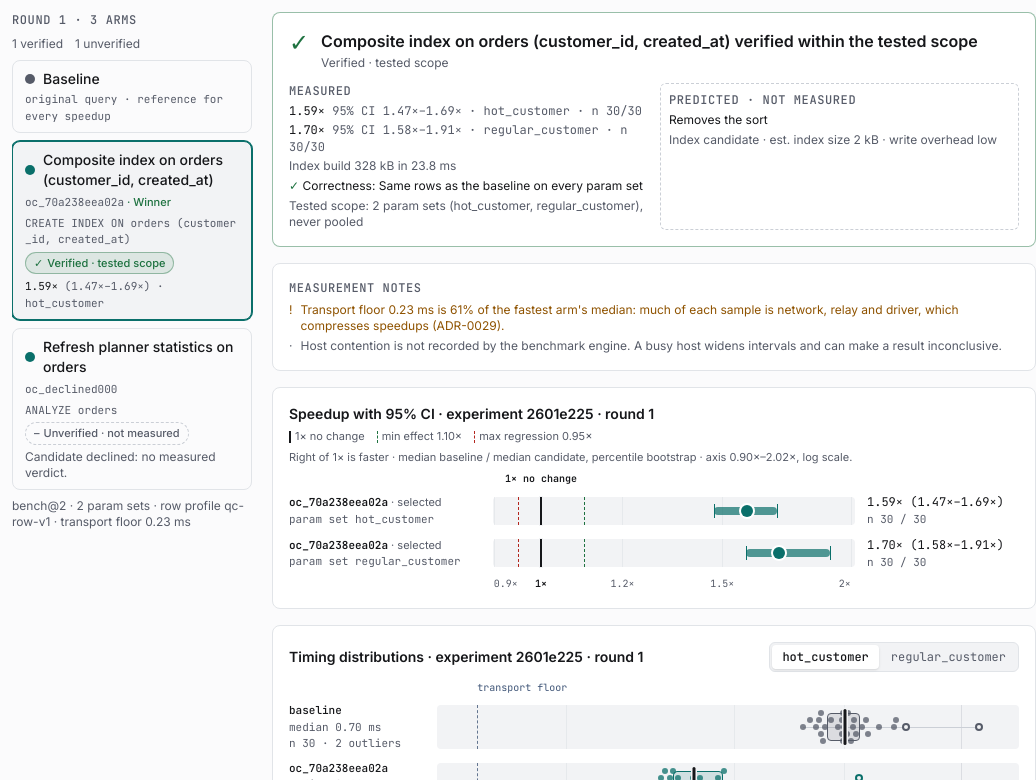
the studio rail selects an arm; its verdict card keeps measured and predicted apart
This screenshot has width=1036, height=780.
expect the text "Baseline" is shown: met, box top-left (25, 70), bottom-right (100, 87)
Click the button "oc_declined000" at (132, 409), box top-left (12, 328), bottom-right (252, 490)
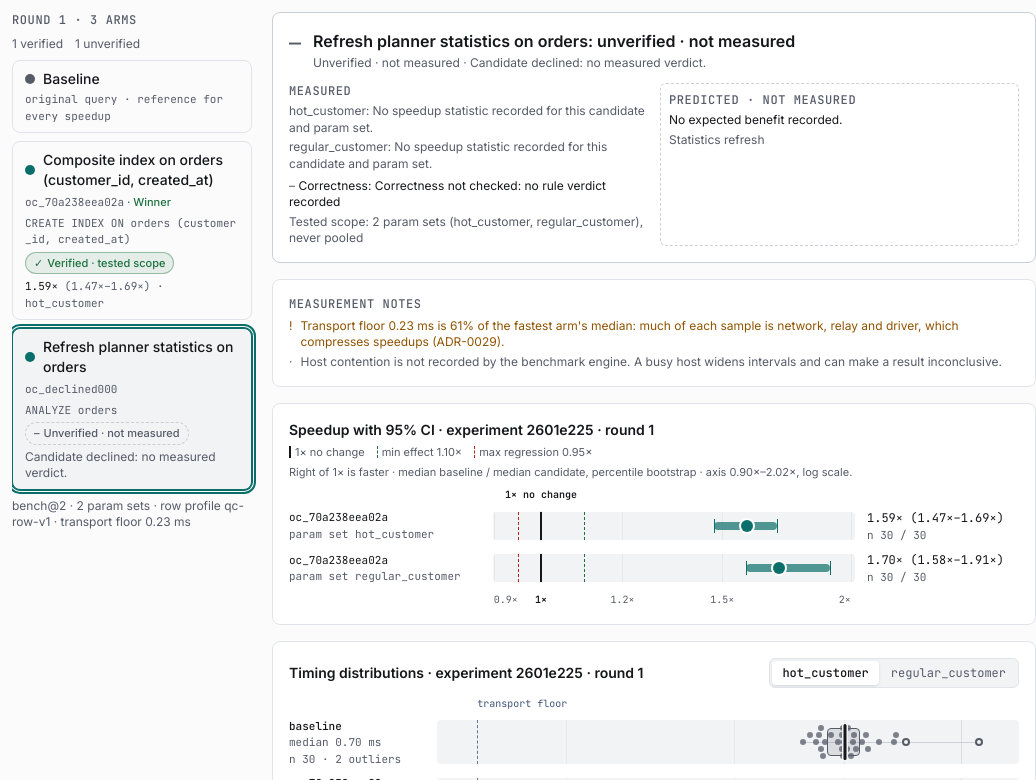
expect the text "No speedup statistic recorded" is shown 2 times: met, box top-left (289, 103), bottom-right (645, 135); top-left (289, 139), bottom-right (607, 171)
expect the heading "unverified · not measured" is shown: met, box top-left (313, 31), bottom-right (795, 51)
